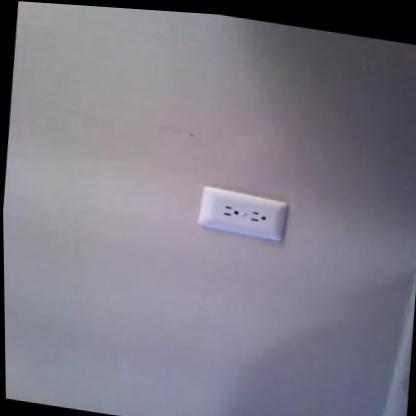OUTLET: (196, 184, 287, 242)
